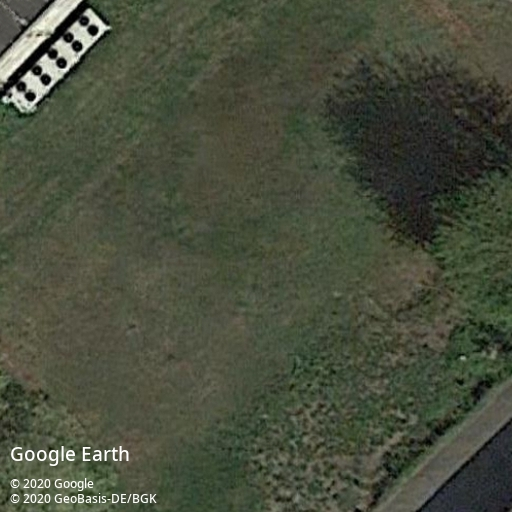Chiller: (6, 5, 112, 115)
